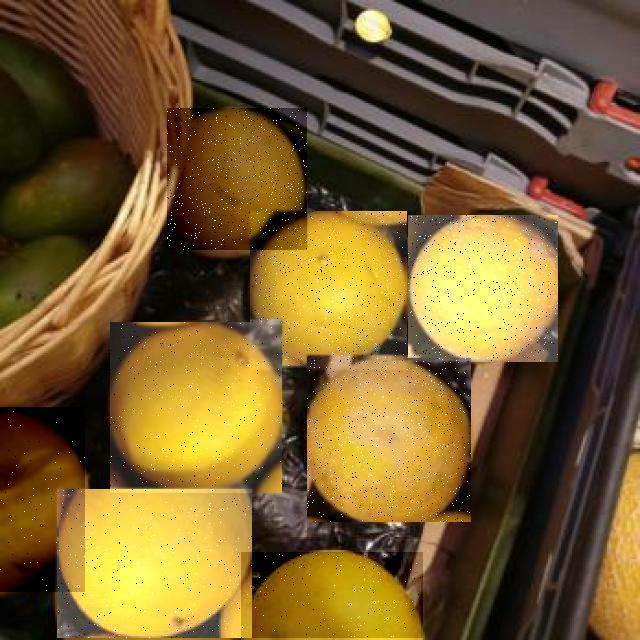Galia: (110, 322, 282, 493), (57, 489, 252, 638), (307, 359, 471, 523), (250, 212, 407, 370), (408, 215, 558, 362), (167, 109, 307, 251), (0, 407, 85, 592), (241, 552, 423, 638)
